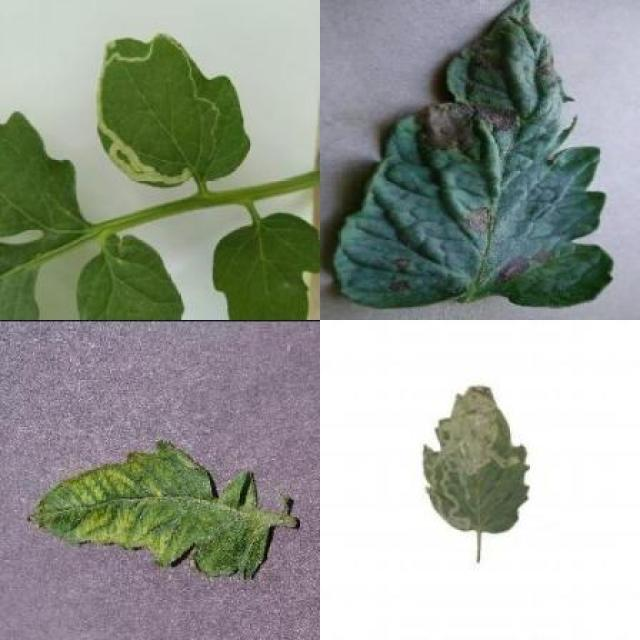Early Blight: (330, 0, 614, 306)
Leaf Miner: (95, 35, 252, 189), (418, 385, 532, 535)
Mosaic Virus: (25, 438, 272, 578)
